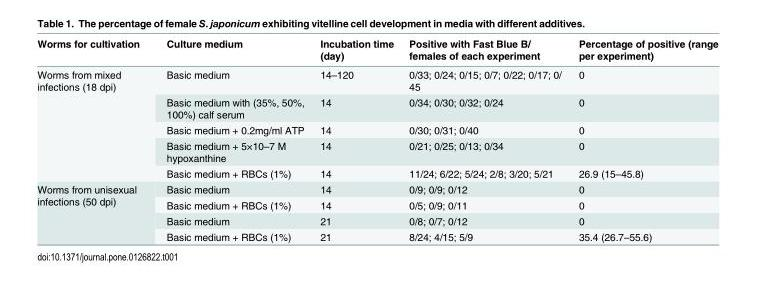table: (36, 37, 717, 242)
table column: (400, 37, 569, 242), (152, 37, 311, 242), (569, 37, 717, 242), (36, 37, 152, 242), (311, 37, 400, 242)
table column header: (36, 37, 717, 64)
table row: (36, 64, 717, 94), (36, 137, 717, 165), (36, 37, 717, 64), (36, 94, 717, 121), (36, 121, 717, 137), (36, 165, 717, 181), (36, 196, 717, 212), (36, 212, 717, 228), (36, 181, 717, 196), (36, 228, 717, 242)
table spanning cell: (36, 64, 152, 181), (36, 181, 152, 242)
